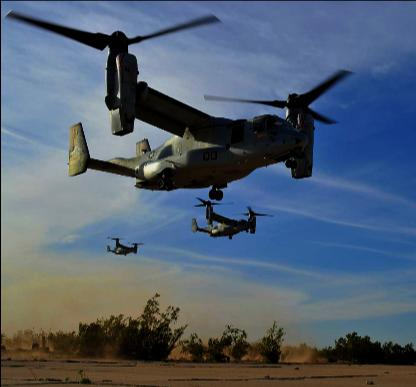Tornado: (1, 9, 352, 201), (190, 197, 272, 239), (104, 237, 144, 256)
